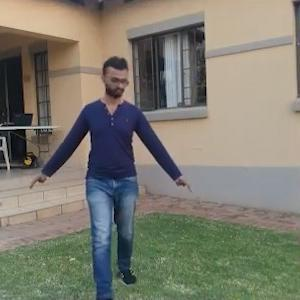land: (25, 47, 195, 289)
